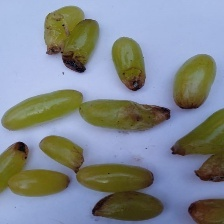grapes: (16, 57, 212, 199)
